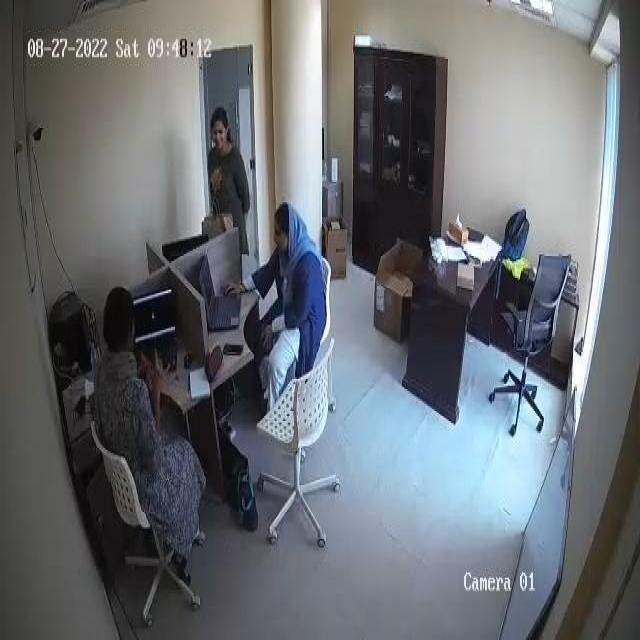bare_hand: (218, 276, 252, 305), (145, 362, 173, 397), (258, 315, 275, 354)
